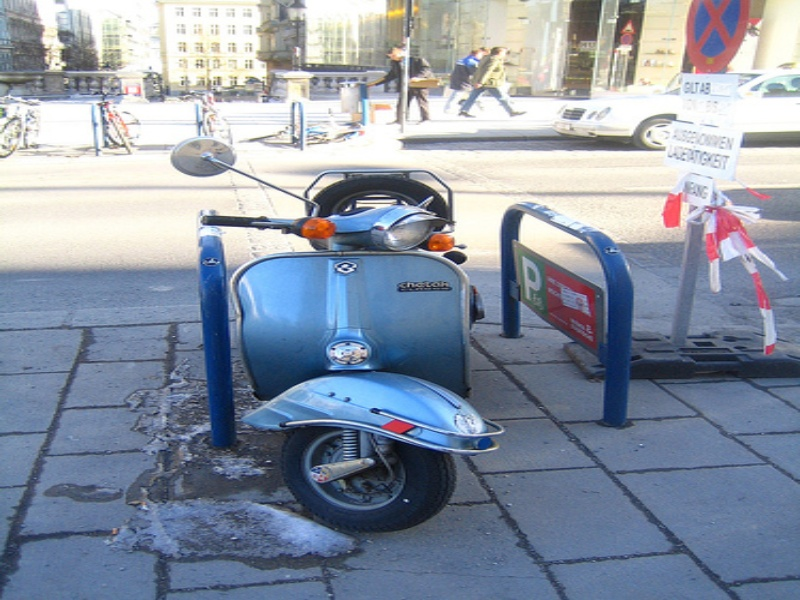car: (552, 69, 800, 151)
person: (366, 47, 435, 123), (459, 48, 524, 118), (444, 49, 483, 118)
